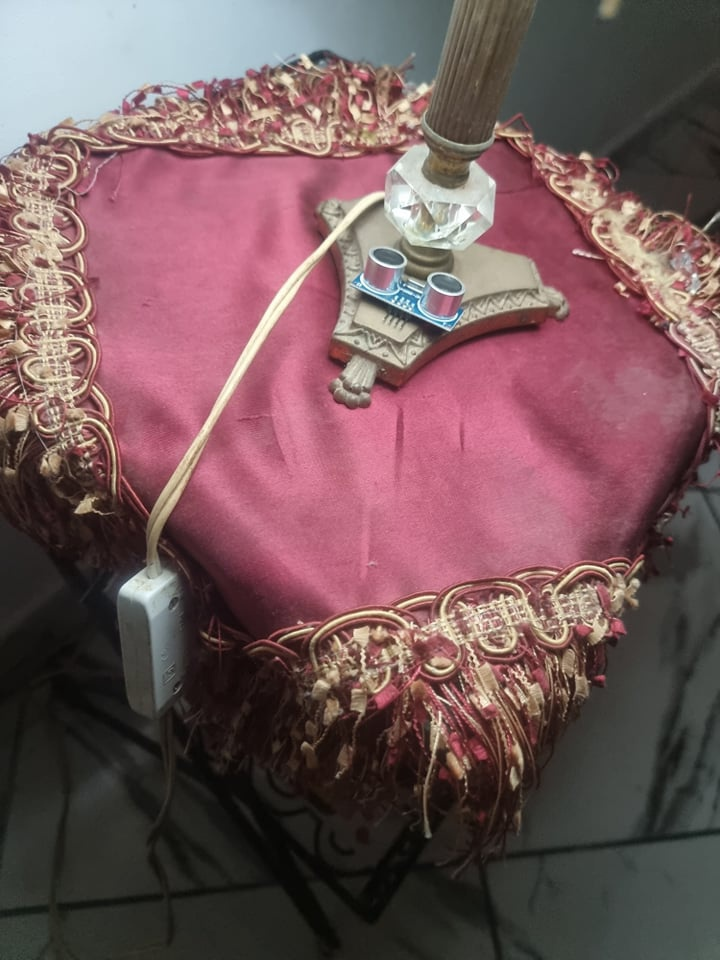SENSOR: (349, 245, 477, 335)
